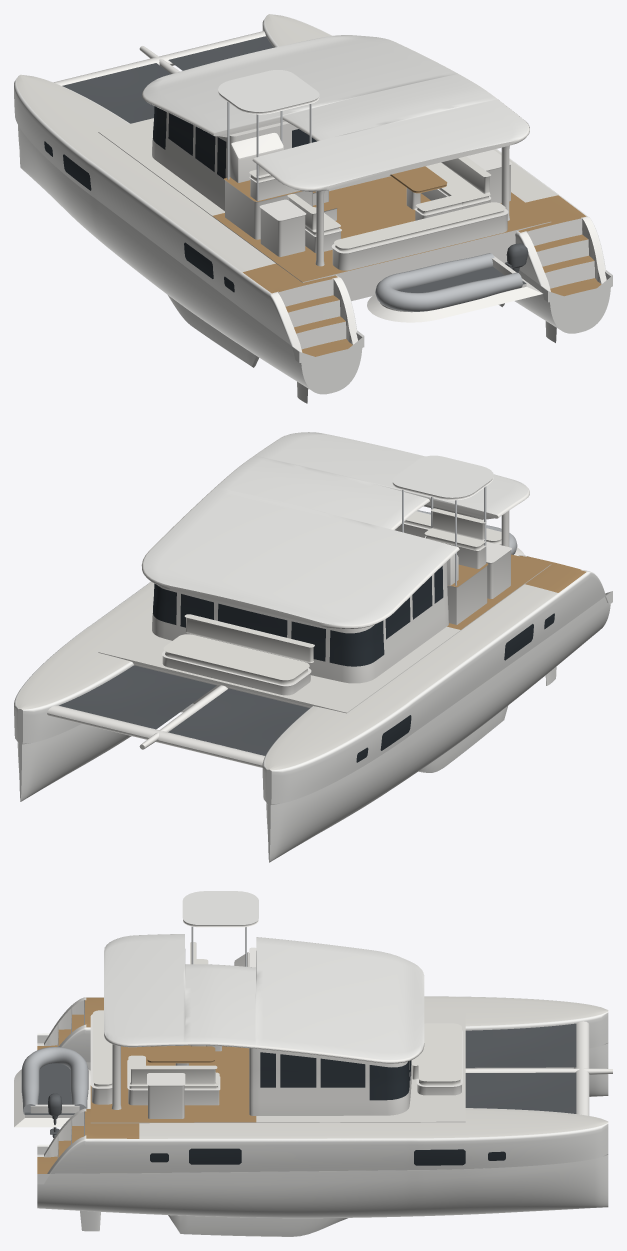
File: lagoon42.glb
3 views of the same model, one above another, from view 1: azimuth 30°, elevation 25°; view 2: azimuth 150°, elevation 25°; view 3: azimuth 270°, elevation 25° (orthographic). The views are drawn at different scales.
Parts seen in each view (by area): view 1: lagoon42; view 2: lagoon42; view 3: lagoon42.
Boxes of the visible parts, x1,y1,x2,y2 form: lagoon42: [14, 14, 612, 403]; lagoon42: [14, 432, 612, 862]; lagoon42: [14, 891, 612, 1236].
Bounding box in the file's own units: 7.63 × 5.78 × 13.42.
